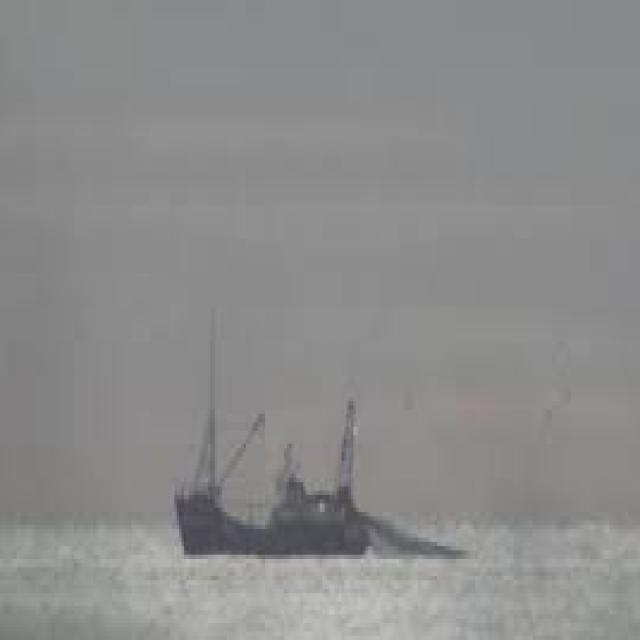fishing boat: (172, 304, 392, 571)
